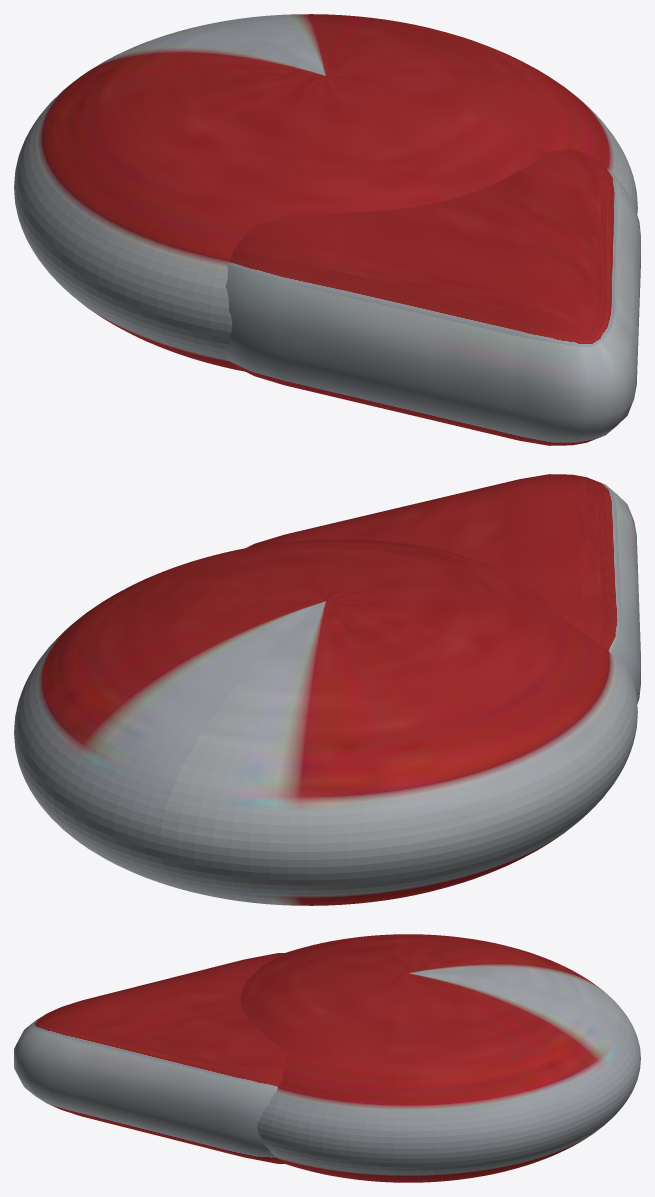
The model's file is e_color_Target.fbx.
3 renders of one model, top to bottom at view 1: azimuth 30°, elevation 25°; view 2: azimuth 150°, elevation 25°; view 3: azimuth 270°, elevation 25°, orthographic. The views are drawn at different scales.
Parts seen in each view (by area): view 1: Sphere; view 2: Sphere; view 3: Sphere.
Part boxes in pixels (<box>): Sphere: <box>14,14,640,445</box>; Sphere: <box>14,474,640,905</box>; Sphere: <box>14,934,640,1182</box>.
Bounding box in the file's own units: 19.7 × 8.65 × 28.85.
